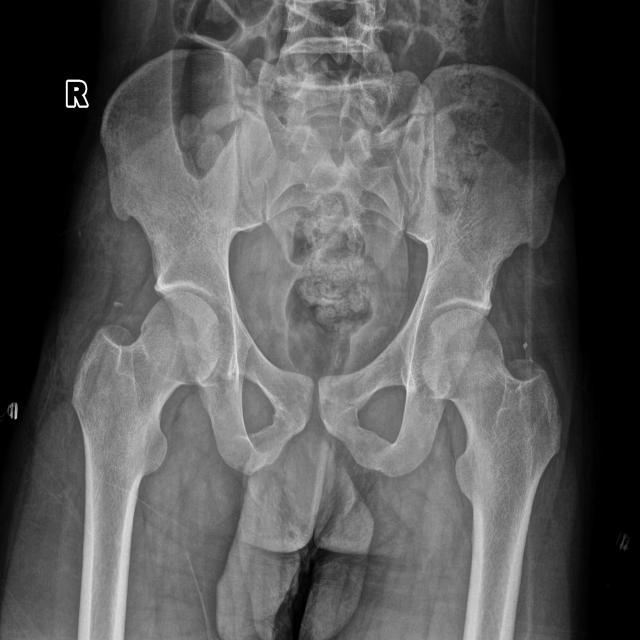normal-left: (422, 310, 561, 640)
normal-right: (72, 292, 223, 640)
